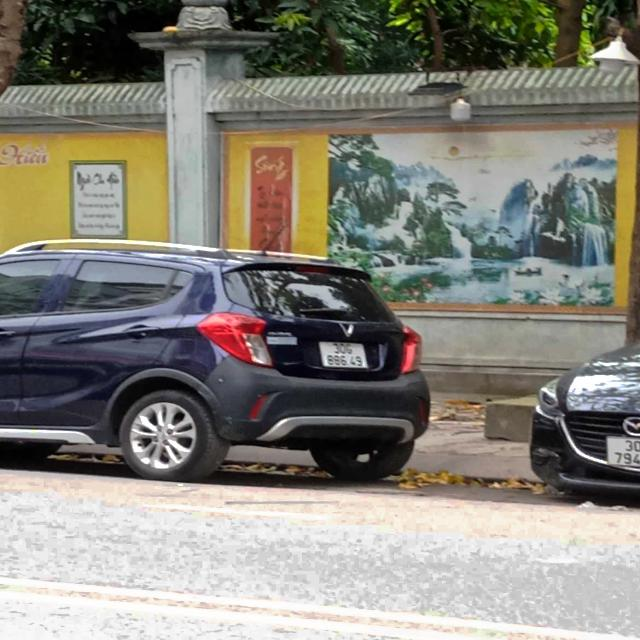license_plate: (316, 340, 373, 372)
